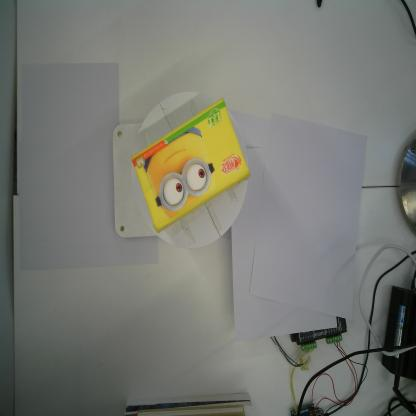Tissue: (131, 97, 251, 234)
